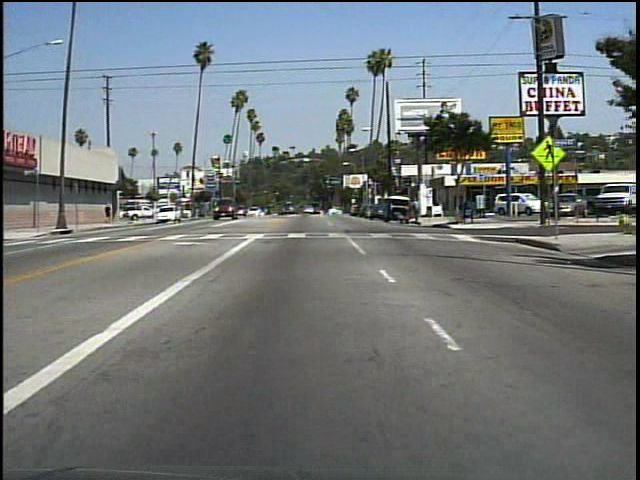person: (409, 196, 423, 226), (394, 210, 411, 228), (103, 199, 113, 224)
